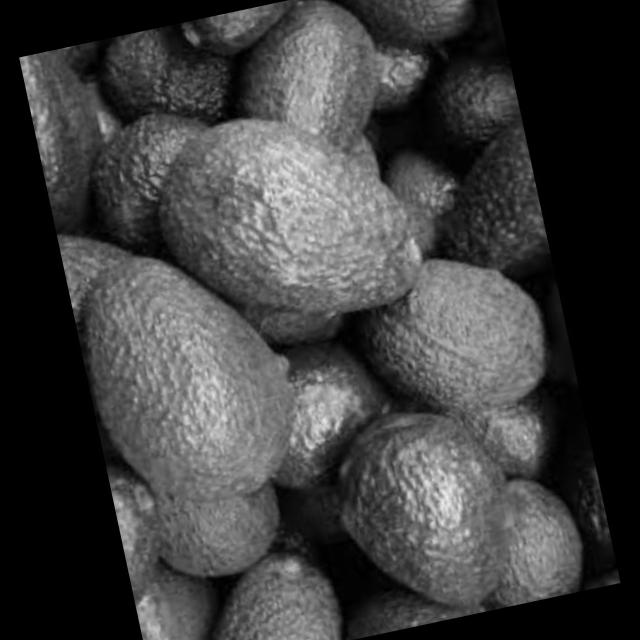avocado: (154, 84, 472, 372), (69, 184, 318, 529), (326, 368, 534, 618), (352, 250, 561, 429), (235, 0, 395, 173), (75, 13, 253, 148), (480, 456, 608, 607), (182, 544, 369, 640), (20, 45, 112, 218), (430, 34, 529, 162), (447, 144, 549, 257), (448, 388, 570, 480), (359, 0, 498, 56)
